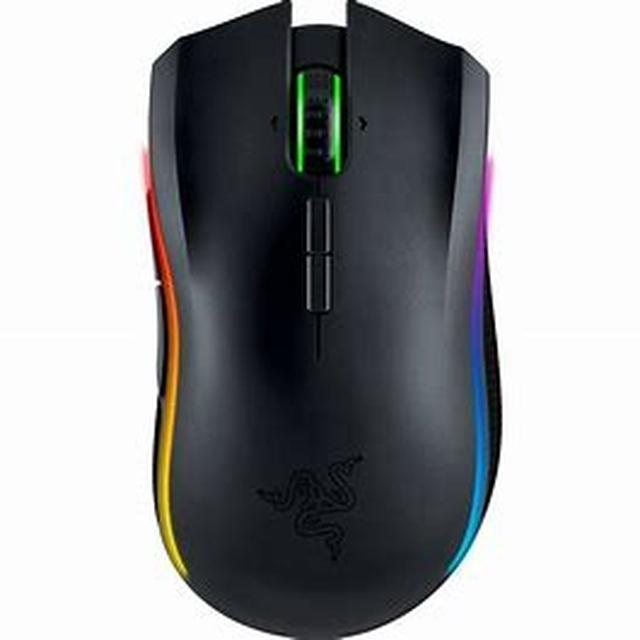mouse: (108, 24, 496, 633)
